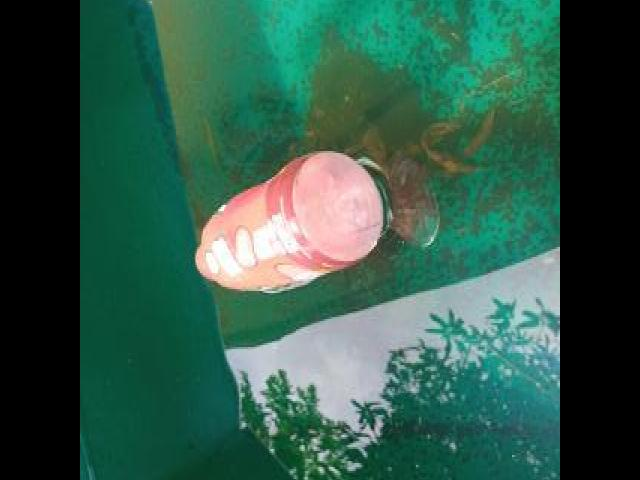Bottle: (192, 147, 388, 302)
